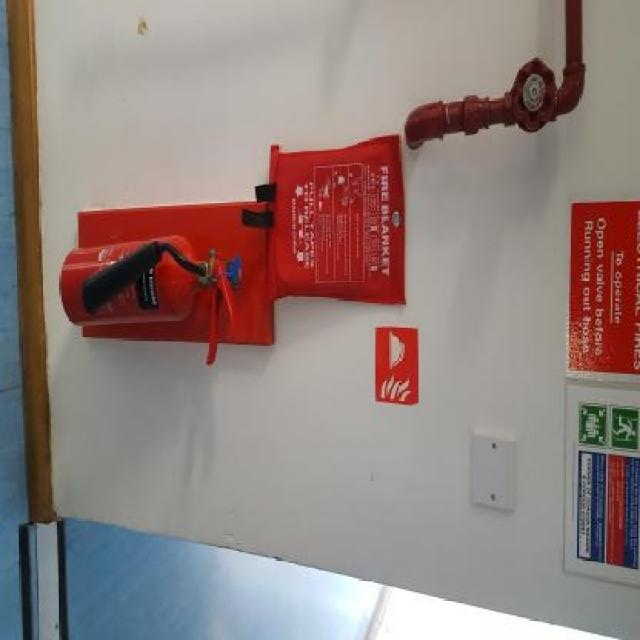fire extinguisher: (58, 236, 240, 367)
